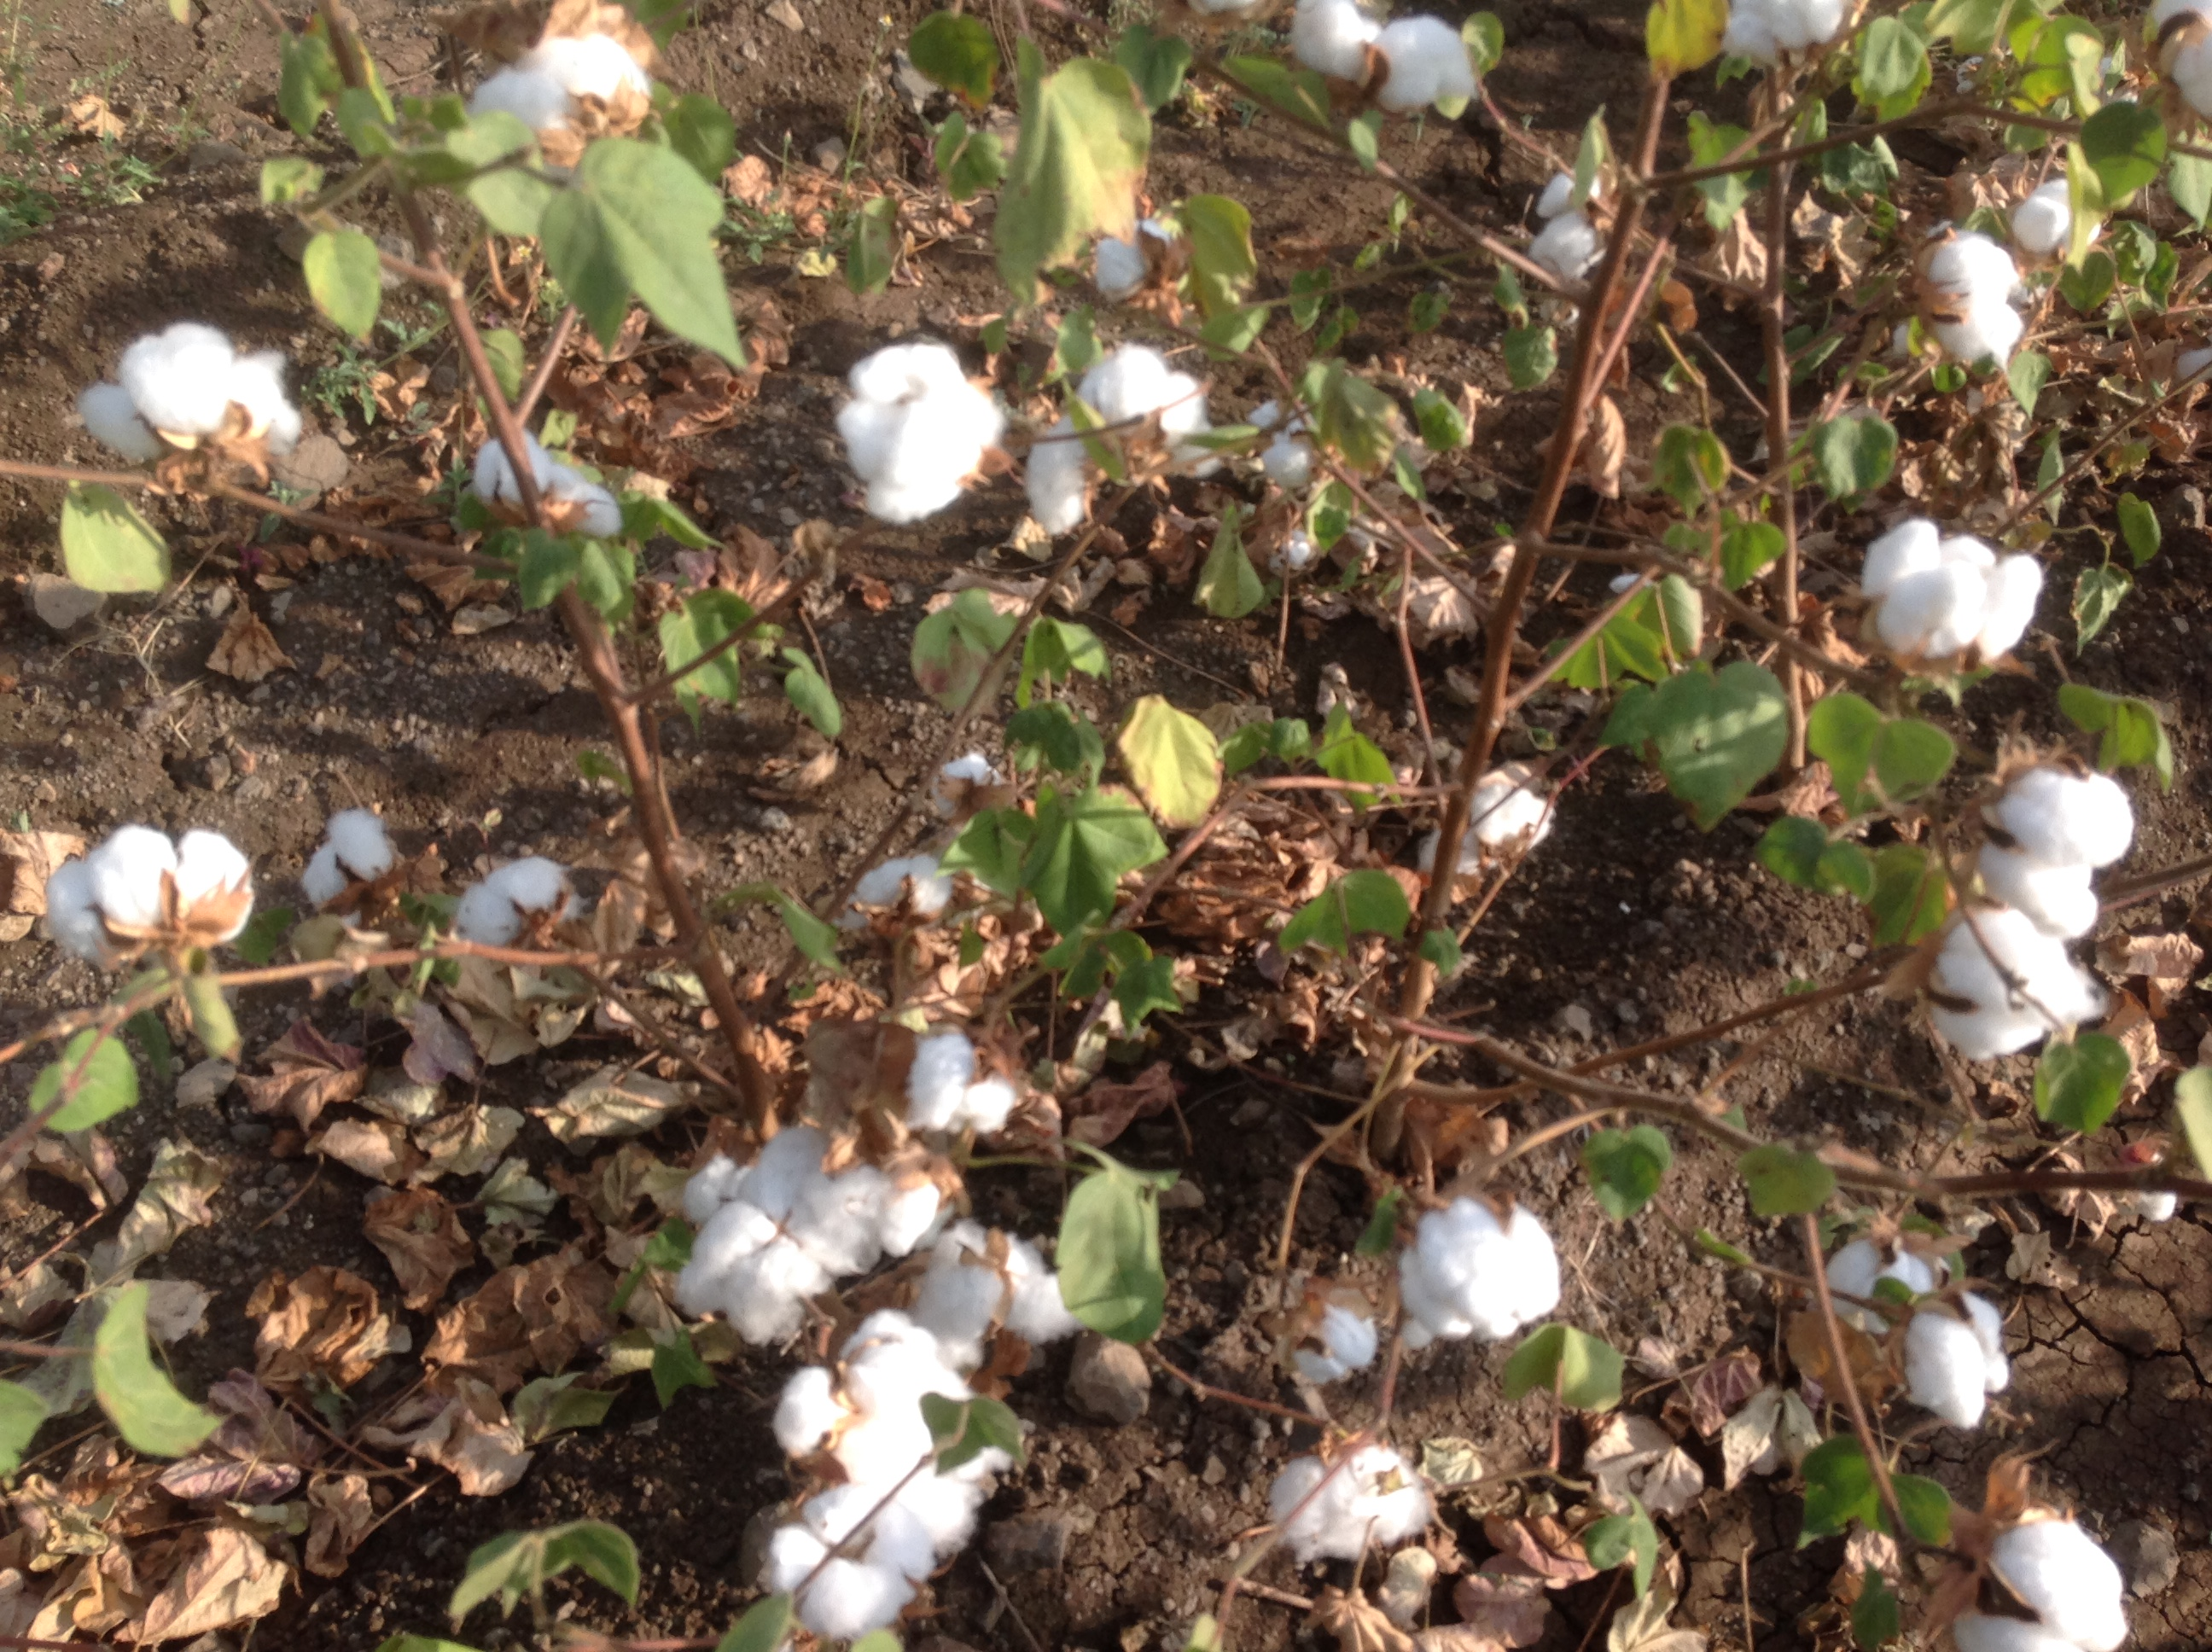cotton: (758, 1317, 1044, 1643), (673, 1112, 946, 1362), (1782, 1215, 2016, 1428), (68, 330, 326, 493), (1960, 722, 2141, 939), (1879, 885, 2111, 1053), (1839, 517, 2052, 687), (456, 24, 644, 215), (1031, 340, 1214, 533), (38, 831, 260, 987), (831, 335, 1001, 524), (1917, 1499, 2130, 1647), (1265, 9, 1497, 141), (836, 1012, 1053, 1145), (1407, 1189, 1574, 1362), (1266, 1426, 1443, 1577), (1886, 213, 2040, 383), (914, 1227, 1095, 1364), (828, 847, 1010, 980), (461, 429, 630, 548), (449, 854, 595, 968), (1070, 191, 1204, 311), (1417, 770, 1556, 883), (1693, 0, 1884, 82), (1537, 153, 1633, 307), (1232, 392, 1358, 500), (1279, 1262, 1372, 1404), (305, 809, 401, 937), (919, 757, 1029, 842), (2014, 180, 2092, 267)
